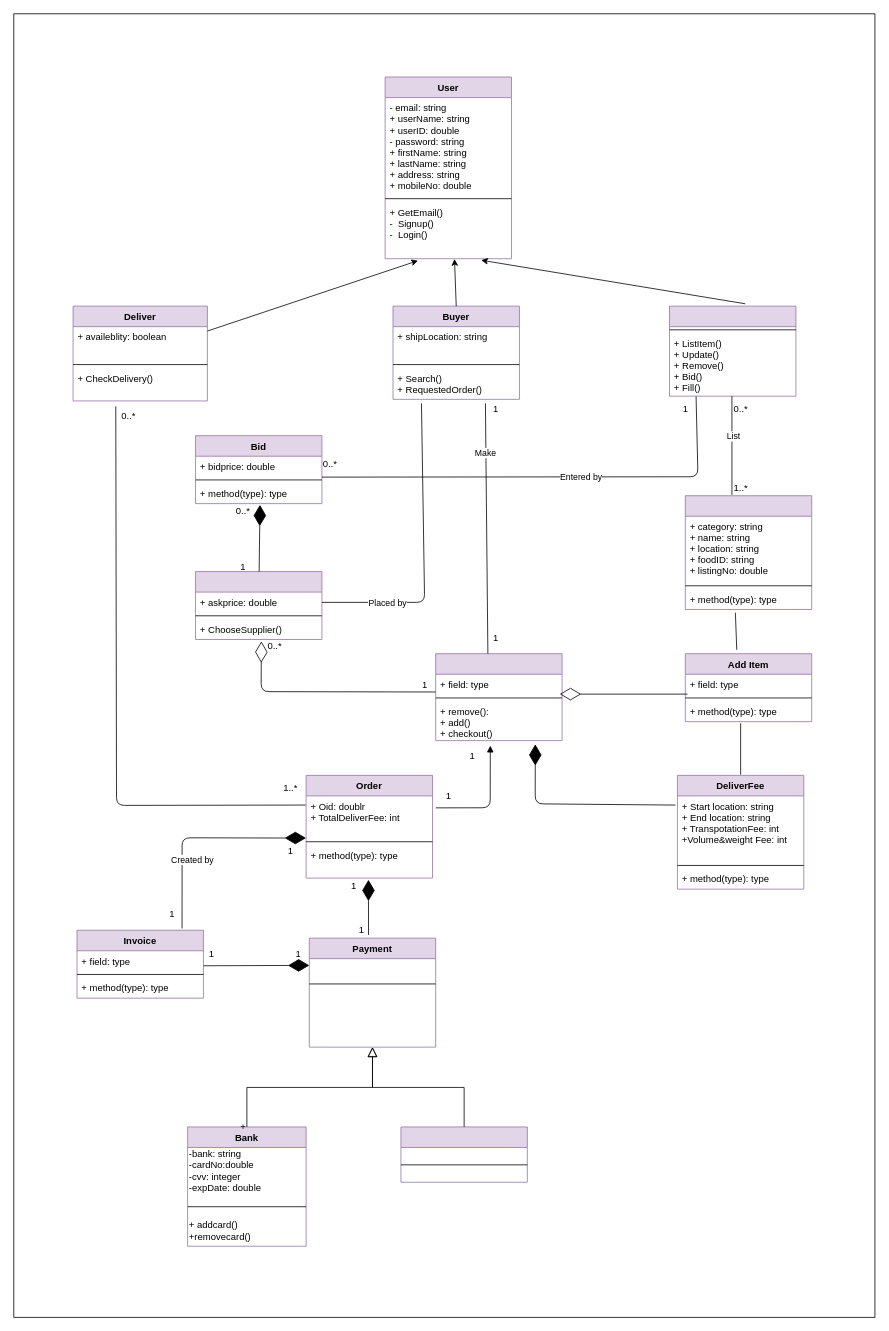
Some shapes in this 889 by 1331 pixel diagram are drawn without their labels. The box of each missing label's shape, as (x1, y1, x2, y2) in pixels:
Cart: (435, 653, 562, 741)
Cash: (400, 1126, 527, 1182)
Food Item: (685, 495, 812, 609)
RequestedOrder: (195, 571, 322, 640)
Supplier: (669, 305, 796, 396)
